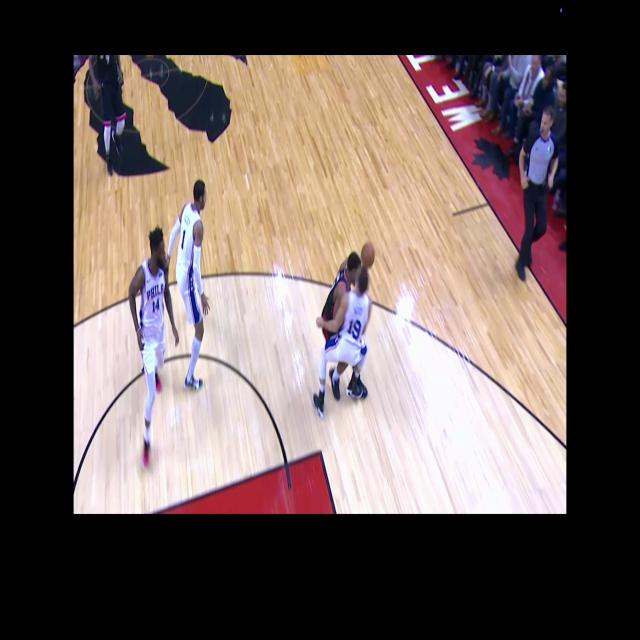Foul: (322, 228, 384, 409)
